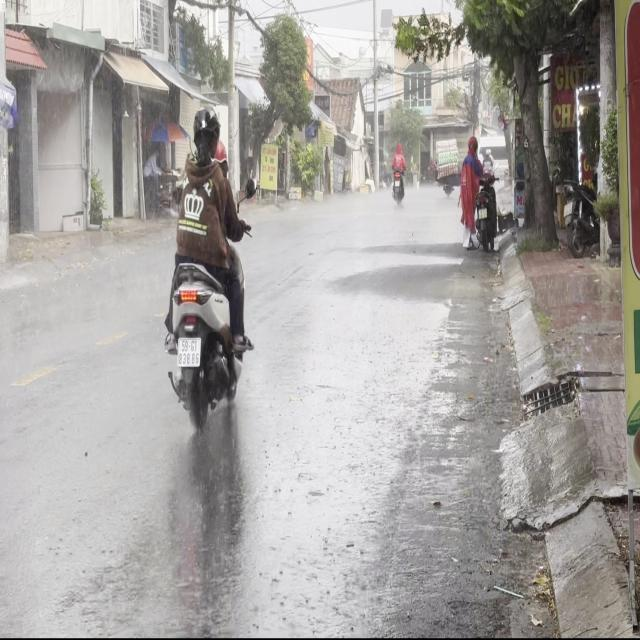helmet: (190, 104, 218, 159)
licenseplate: (160, 100, 253, 437)
nohelmet: (177, 336, 200, 366)
